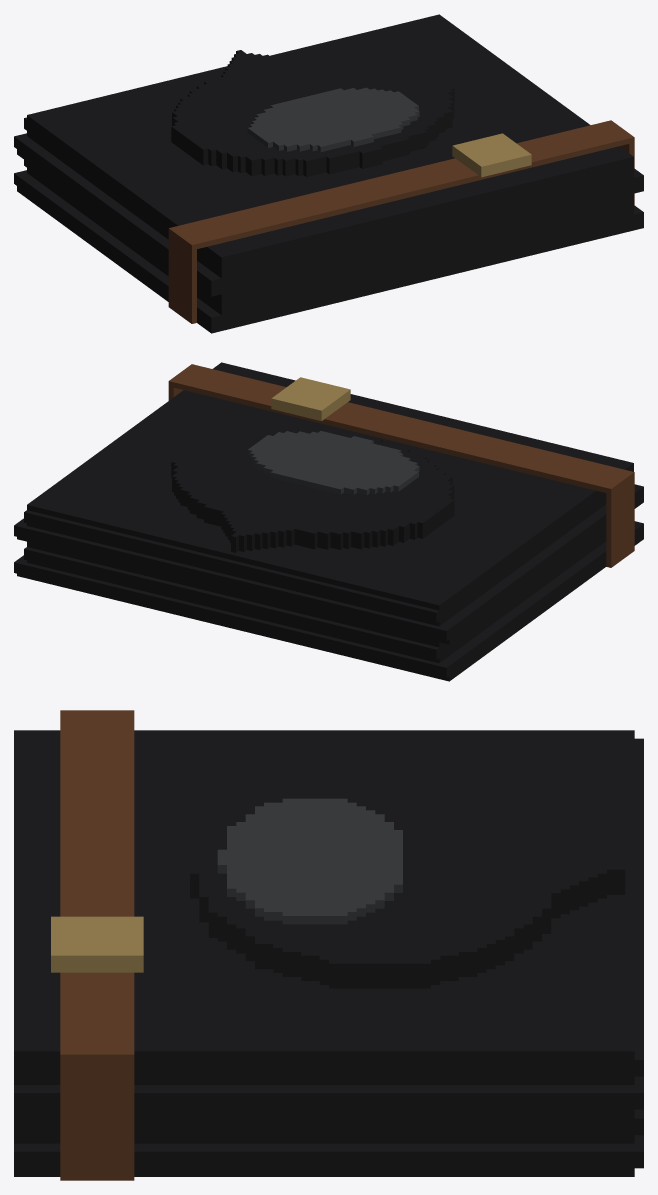
The model's file is plaguedoctor_robe.glb.
3 views of the same model, one above another, from view 1: azimuth 30°, elevation 25°; view 2: azimuth 150°, elevation 25°; view 3: azimuth 270°, elevation 25° (orthographic). The views are drawn at different scales.
Parts seen in each view (by area): view 1: plaguedoctor_robe:compound; view 2: plaguedoctor_robe:compound; view 3: plaguedoctor_robe:compound.
Boxes of the visible parts, <box> form: plaguedoctor_robe:compound: <box>14,14,643,333</box>; plaguedoctor_robe:compound: <box>14,362,643,681</box>; plaguedoctor_robe:compound: <box>14,710,643,1180</box>.
Size of the model in its own units: 0.352 by 0.072 by 0.272.
